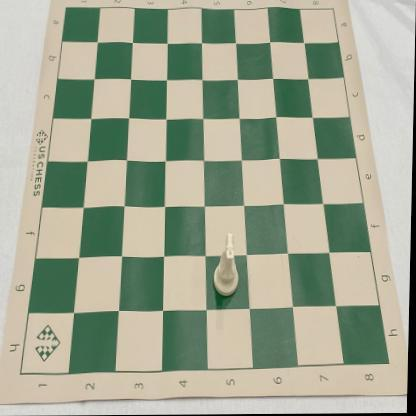white-knight: (214, 233, 242, 298)
